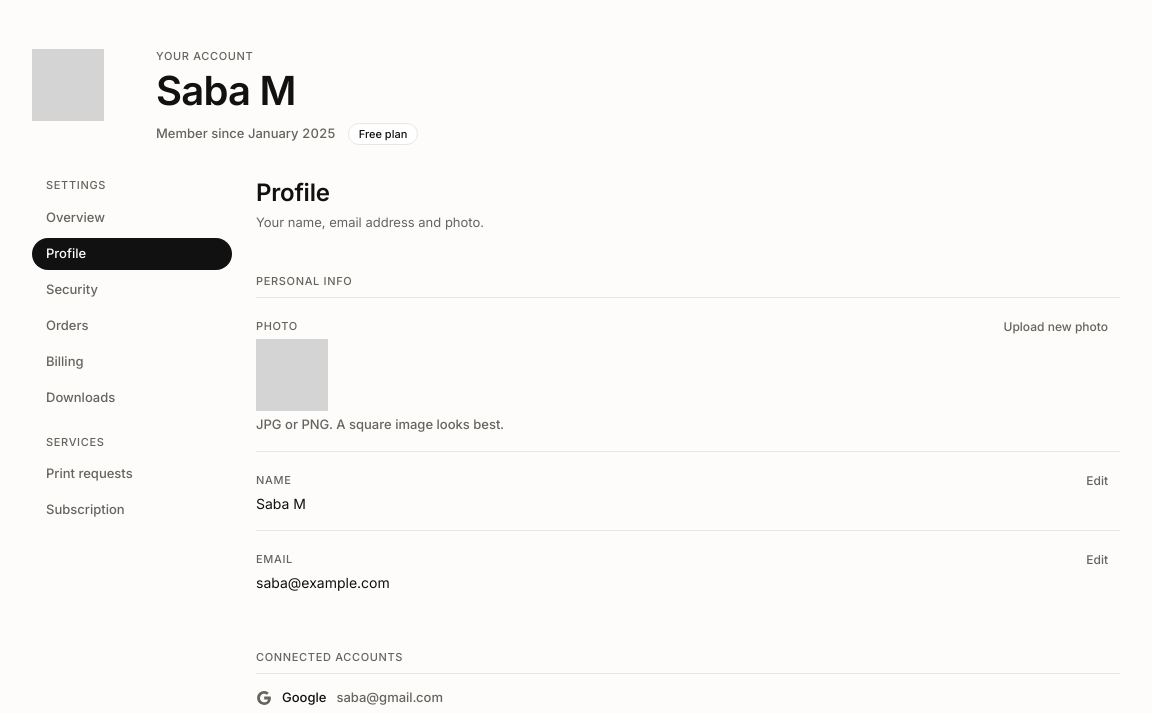
Scenario: Account hub › profile section keeps name/email editing (inline rows) and connected accounts
The width and height of the screenshot is (1152, 713).
Check: the text "saba@example.com" is shown, box left=256, top=574, right=390, bottom=590
Check: the text "saba@gmail.com" is shown, box left=336, top=688, right=443, bottom=708
Click the button with aria-label "Edit name" at x=1097, y=480, box left=1074, top=468, right=1120, bottom=494
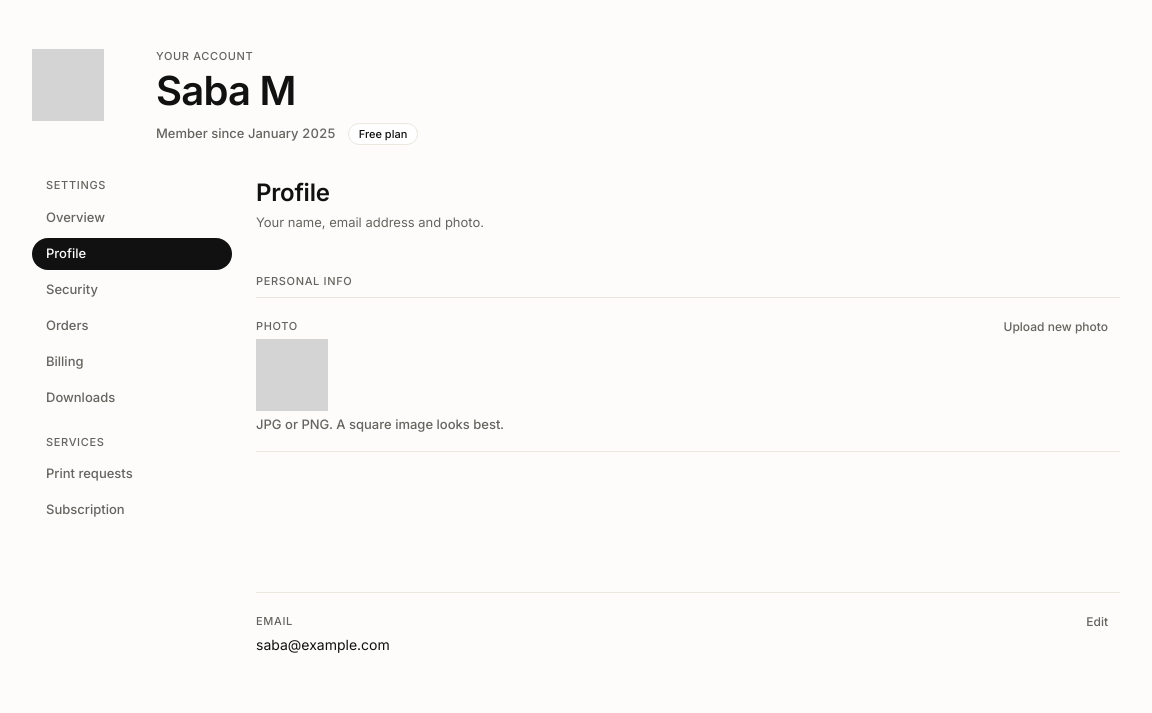
Click the button with aria-label "Edit email" at x=1097, y=622, box left=1074, top=609, right=1120, bottom=635
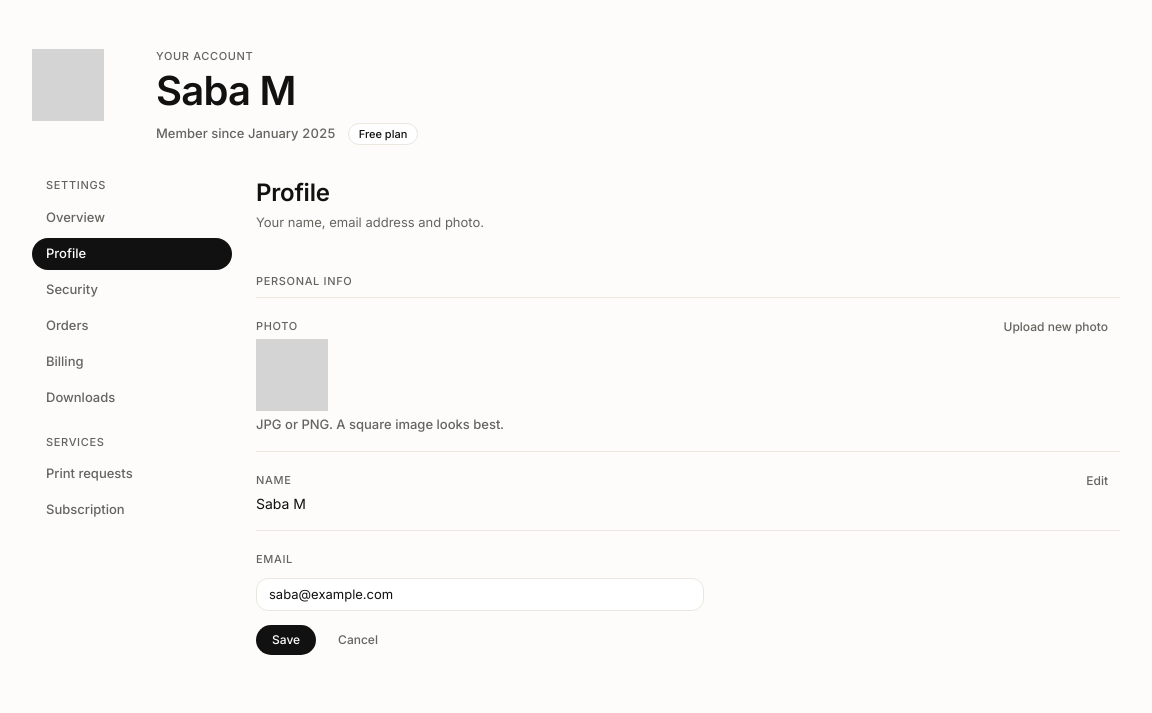
Check: the field named "Email address" holds "saba@example.com", box left=256, top=578, right=704, bottom=611
